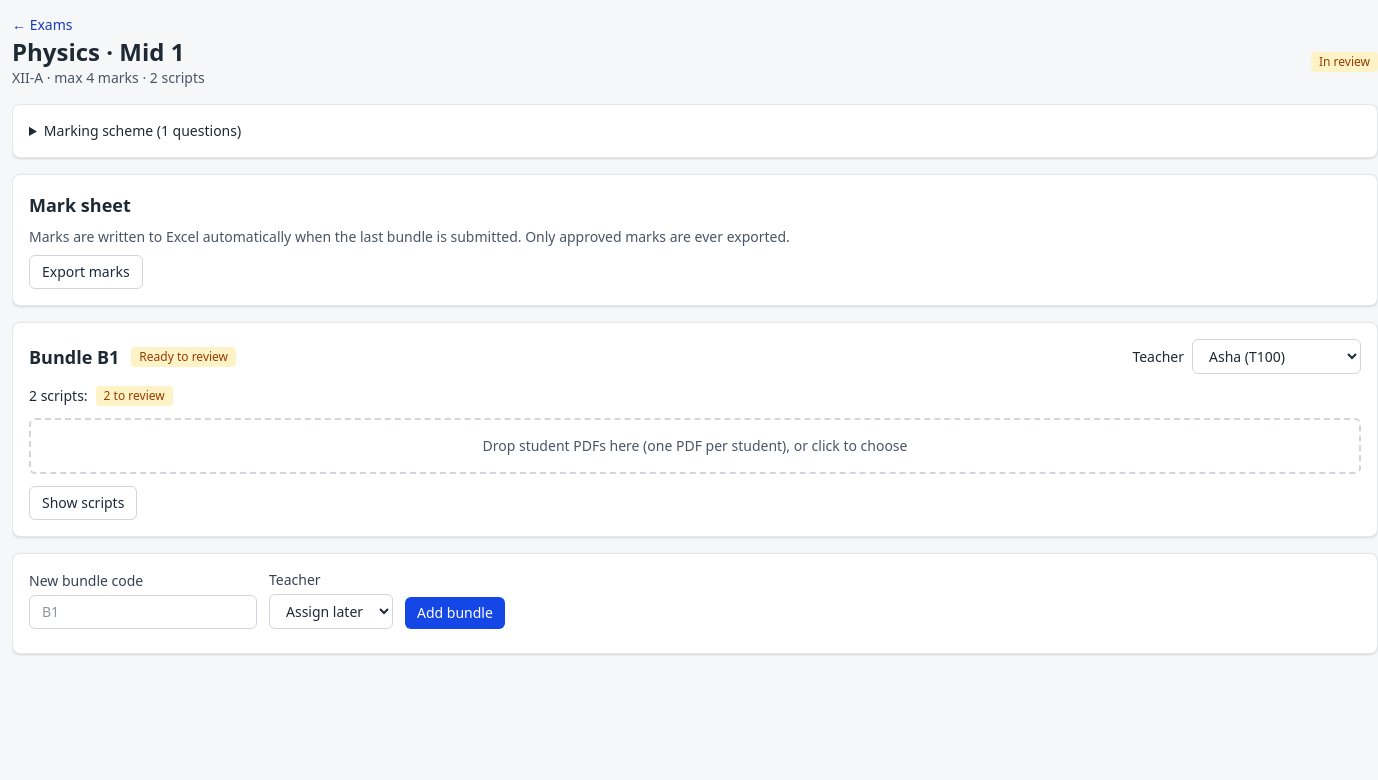
Test: Exam page › shows why an export is blocked
Click the button "Export marks".
click(86, 272)  # box [29, 255, 143, 289]
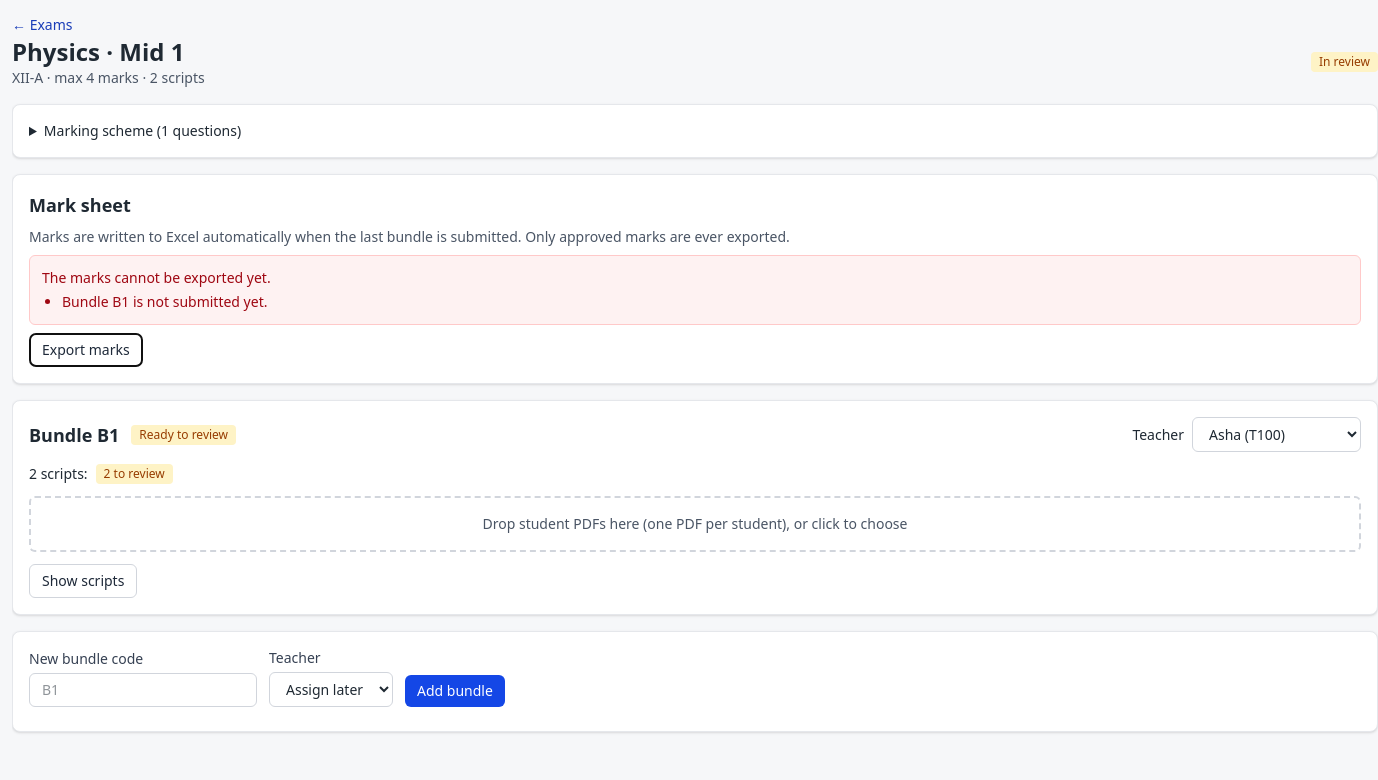
Check: the message shows "Bundle B1 is not submitted yet.", box [62, 292, 268, 311]
